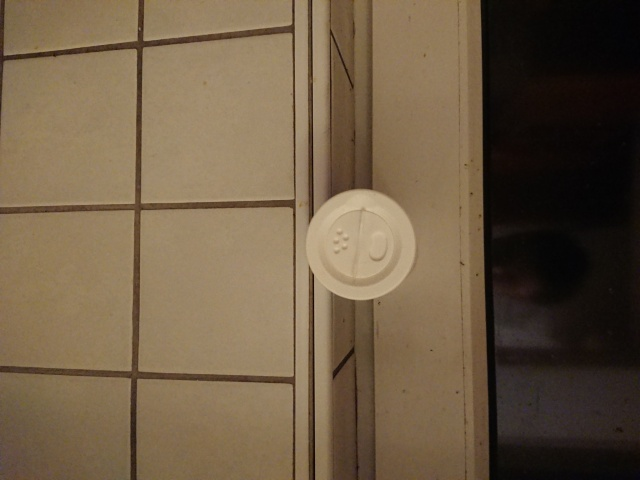Solana Pag Fine Sea Salt 250g: (302, 186, 421, 304)
